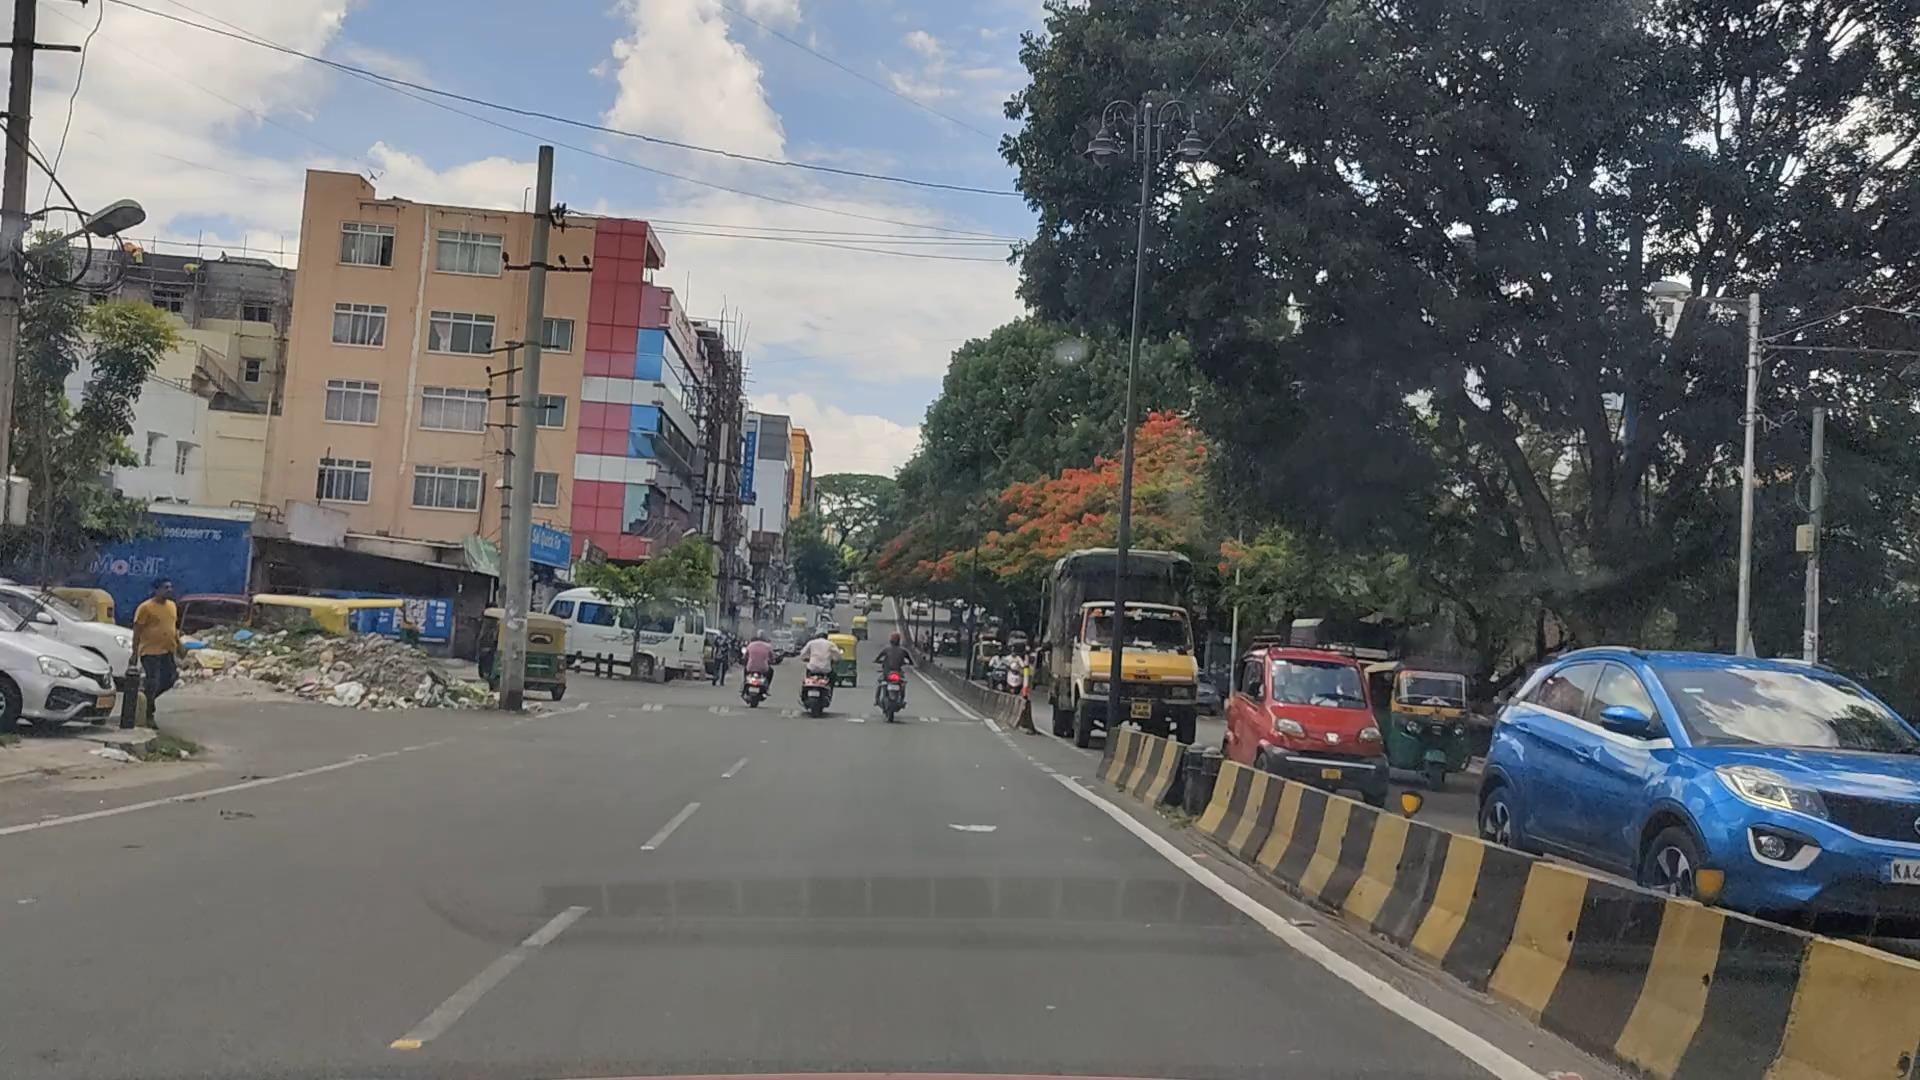RoadDamages: (935, 781, 1035, 864)
